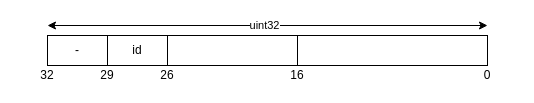
This 534x103 diagram has some shape labels left out. Here are the shapes that lost their labels. From the top down, the centre of each, then its label:
At pixel 232 50: "decimals".
At pixel 392 50: "whole part".
